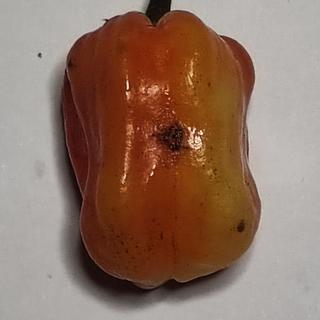Defect: (147, 117, 196, 159), (234, 216, 250, 239)
